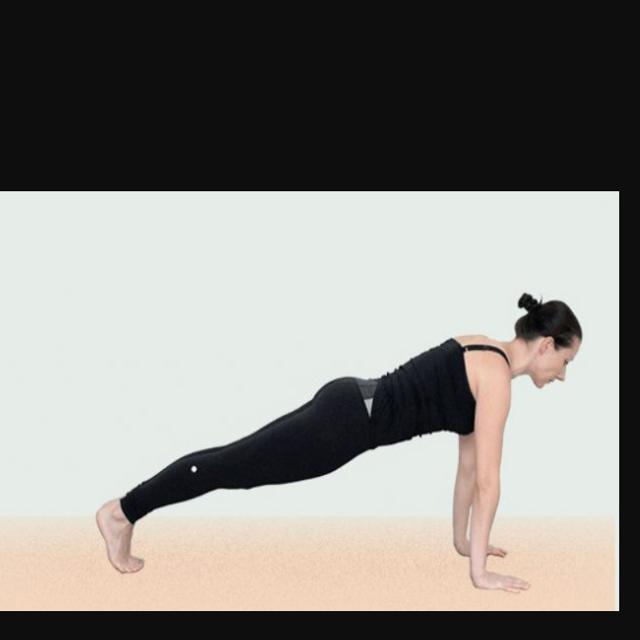Plank_Pose: (94, 300, 591, 600)
